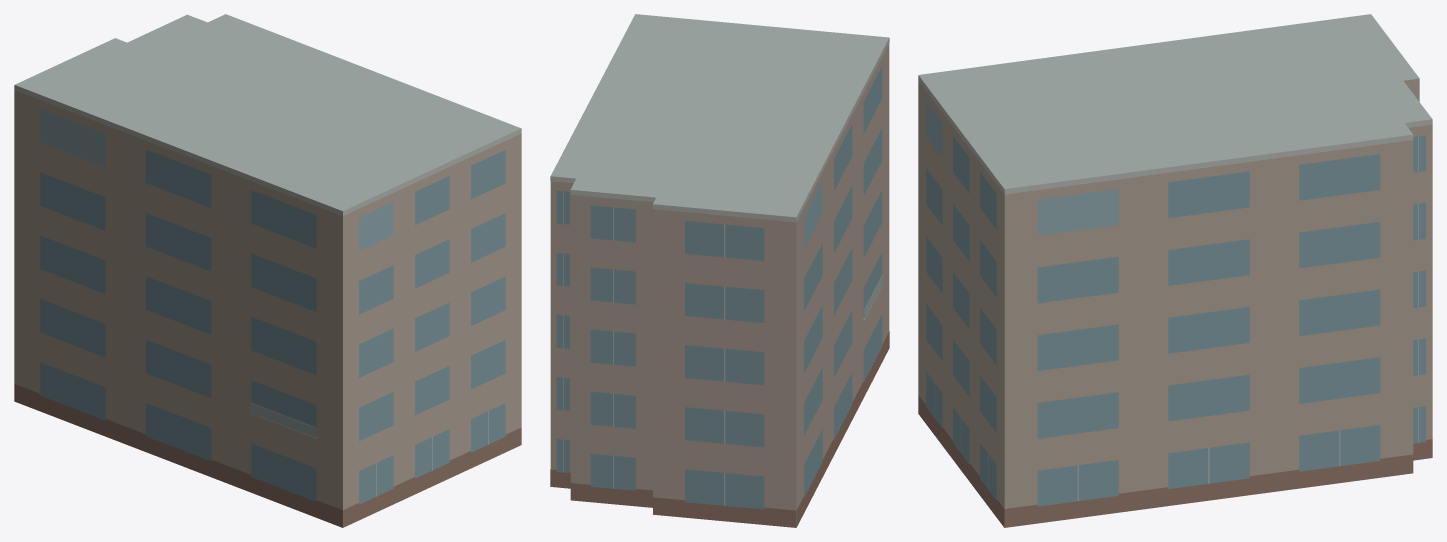
The model's file is survey-upis-32715195.glb.
3 views of the same model, side by side, from view 1: azimuth 30°, elevation 25°; view 2: azimuth 150°, elevation 25°; view 3: azimuth 270°, elevation 25° (orthographic). The views are drawn at different scales.
Parts seen in each view (by area): view 1: survey-upis-32715195.tmp; view 2: survey-upis-32715195.tmp; view 3: survey-upis-32715195.tmp.
Part boxes in pixels (<box>): survey-upis-32715195.tmp: <box>14,14,521,527</box>; survey-upis-32715195.tmp: <box>550,14,889,527</box>; survey-upis-32715195.tmp: <box>918,14,1432,527</box>.
Size of the model in its own units: 16.93 by 15.25 by 21.
